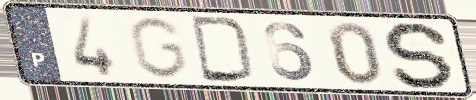0: (326, 19, 386, 88)
4: (69, 13, 121, 79)
6: (262, 20, 318, 83)
D: (187, 14, 258, 85)
G: (125, 14, 191, 81)
S: (381, 19, 458, 91)
